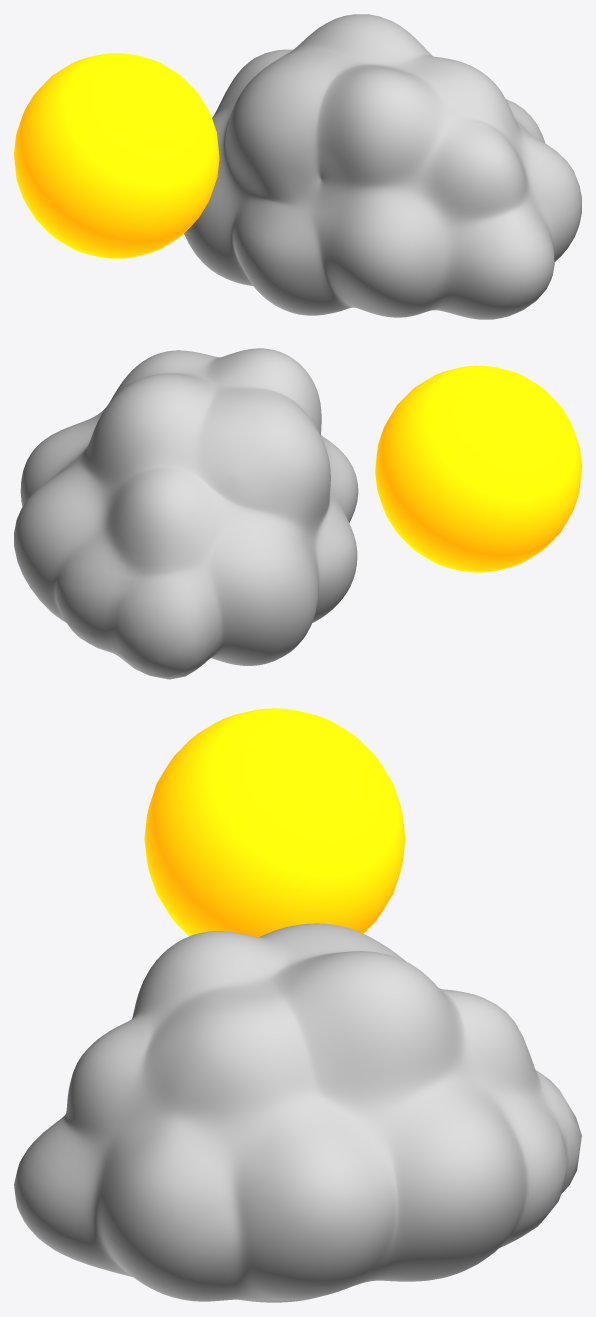
3 views of the same model, one above another, from view 1: azimuth 30°, elevation 25°; view 2: azimuth 150°, elevation 25°; view 3: azimuth 270°, elevation 25° (orthographic). The views are drawn at different scales.
Visible parts, largest first — view 1: Cloud, Sphere; view 2: Cloud, Sphere; view 3: Cloud, Sphere.
Part boxes in pixels (x1=…): Cloud: x1=184, y1=14, x2=581, y2=319; Sphere: x1=14, y1=53, x2=219, y2=258; Cloud: x1=14, y1=348, x2=358, y2=679; Sphere: x1=375, y1=365, x2=581, y2=572; Cloud: x1=14, y1=923, x2=581, y2=1302; Sphere: x1=144, y1=708, x2=405, y2=937.
Bounding box in the file's own units: 1758 × 972 × 1304.
